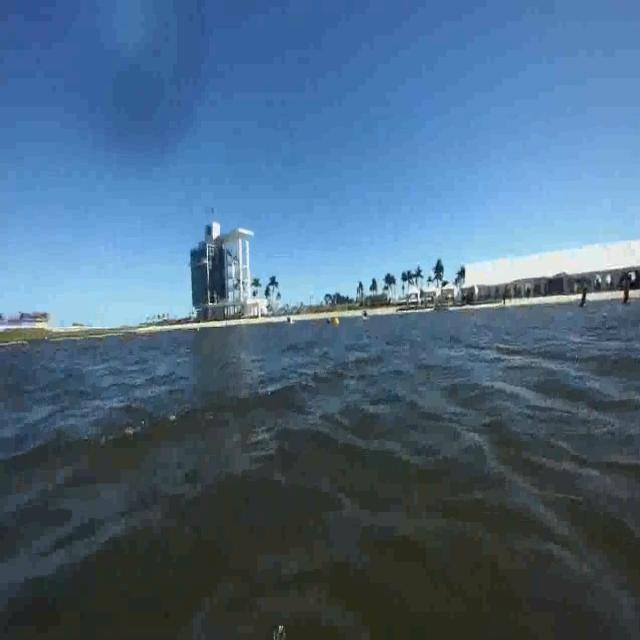green-column-buoy: (581, 286, 588, 304)
red-column-buoy: (621, 280, 633, 311)
yellow-buoy: (334, 316, 342, 327)
